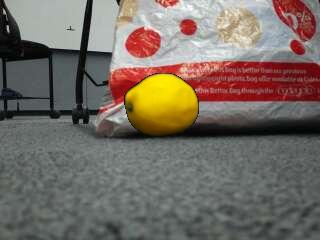lemon: (126, 74, 198, 134)
